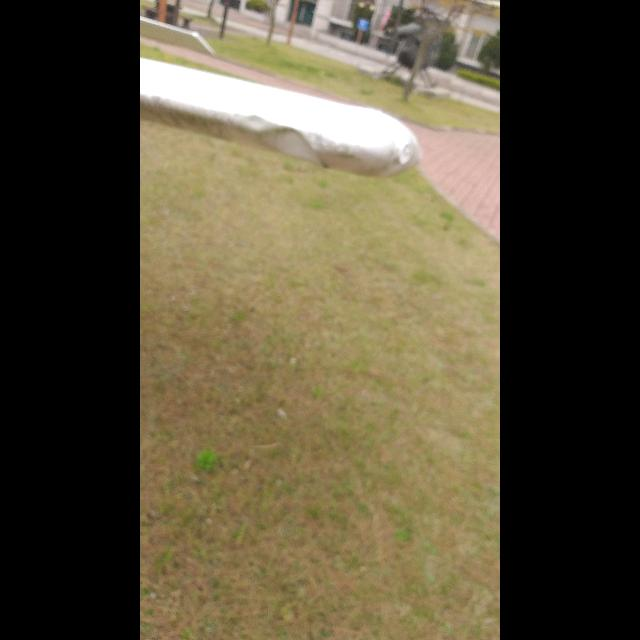dent: (258, 121, 326, 169), (242, 112, 266, 132)
